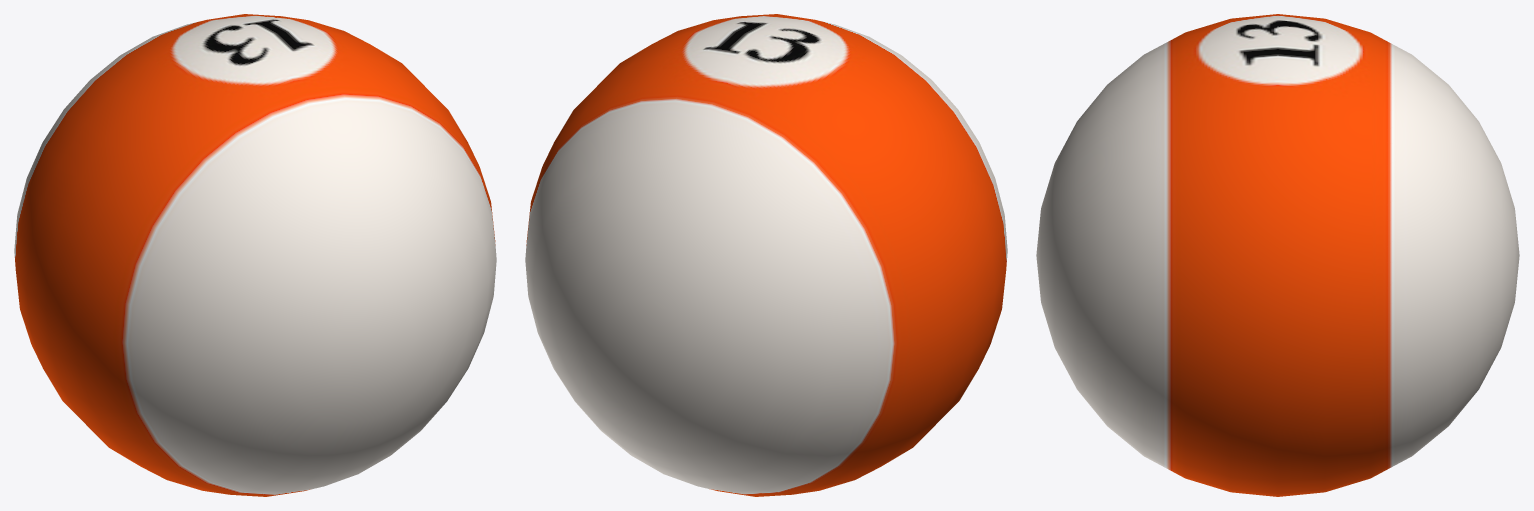
File: Billiard Ball 13.glb
3 renders of one model, left to right at view 1: azimuth 30°, elevation 25°; view 2: azimuth 150°, elevation 25°; view 3: azimuth 270°, elevation 25°, orthographic.
Visible parts, largest first — view 1: Ball13_04 - Default_0; view 2: Ball13_04 - Default_0; view 3: Ball13_04 - Default_0.
Boxes of the visible parts, x1=… form: Ball13_04 - Default_0: x1=14, y1=14, x2=496, y2=496; Ball13_04 - Default_0: x1=525, y1=14, x2=1007, y2=496; Ball13_04 - Default_0: x1=1036, y1=14, x2=1519, y2=496.
Bounding box in the file's own units: 37.86 × 37.86 × 37.86.
1 material, 1 textured.
